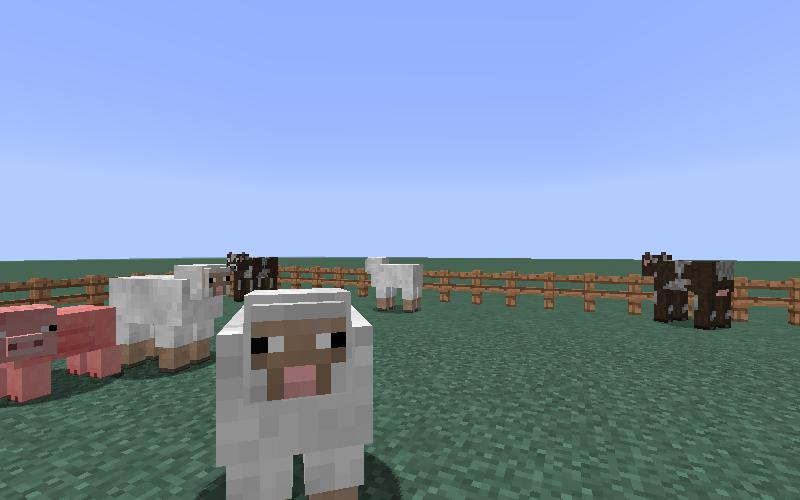cow: (638, 249, 738, 336), (224, 252, 280, 290)
pig: (1, 299, 121, 407)
sheep: (212, 286, 378, 500), (106, 262, 226, 375), (360, 252, 427, 318)
